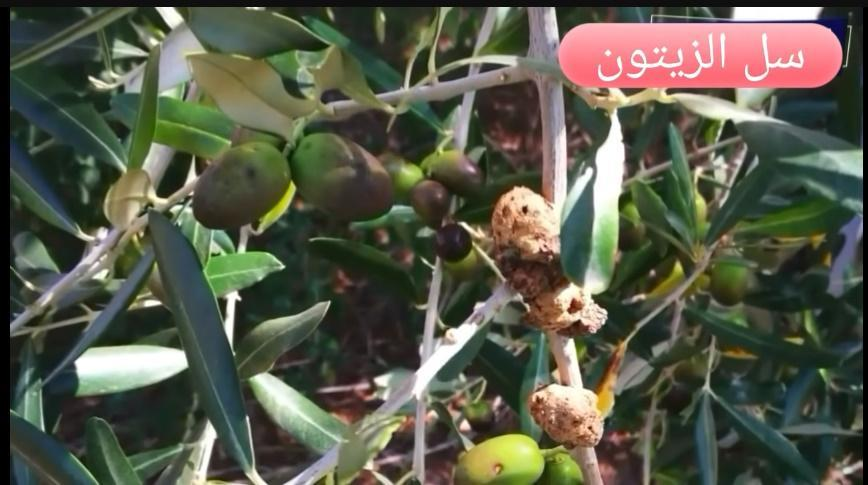Tuberculosis: (484, 182, 614, 341), (530, 377, 606, 451)
